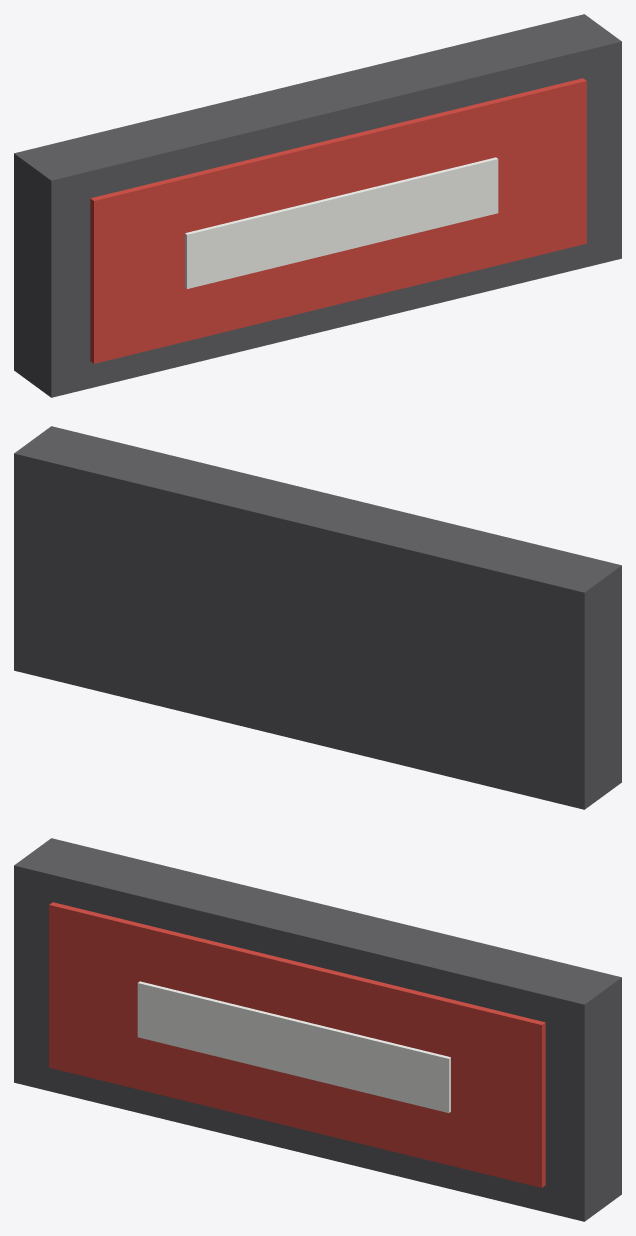
The model's file is Exit_Sign.fbx.
The picture shows the model from 3 angles, top to bottom: view 1: azimuth 30°, elevation 25°; view 2: azimuth 150°, elevation 25°; view 3: azimuth 330°, elevation 25°; orthographic projection.
Parts seen in each view (by area): view 1: Exit_Sign; view 2: Exit_Sign; view 3: Exit_Sign.
Boxes of the visible parts, x1,y1,x2,y2 form: Exit_Sign: (14, 14, 621, 397); Exit_Sign: (14, 426, 621, 809); Exit_Sign: (14, 838, 621, 1221).
Size of the model in its own units: 0.44 by 0.16 by 0.058.
